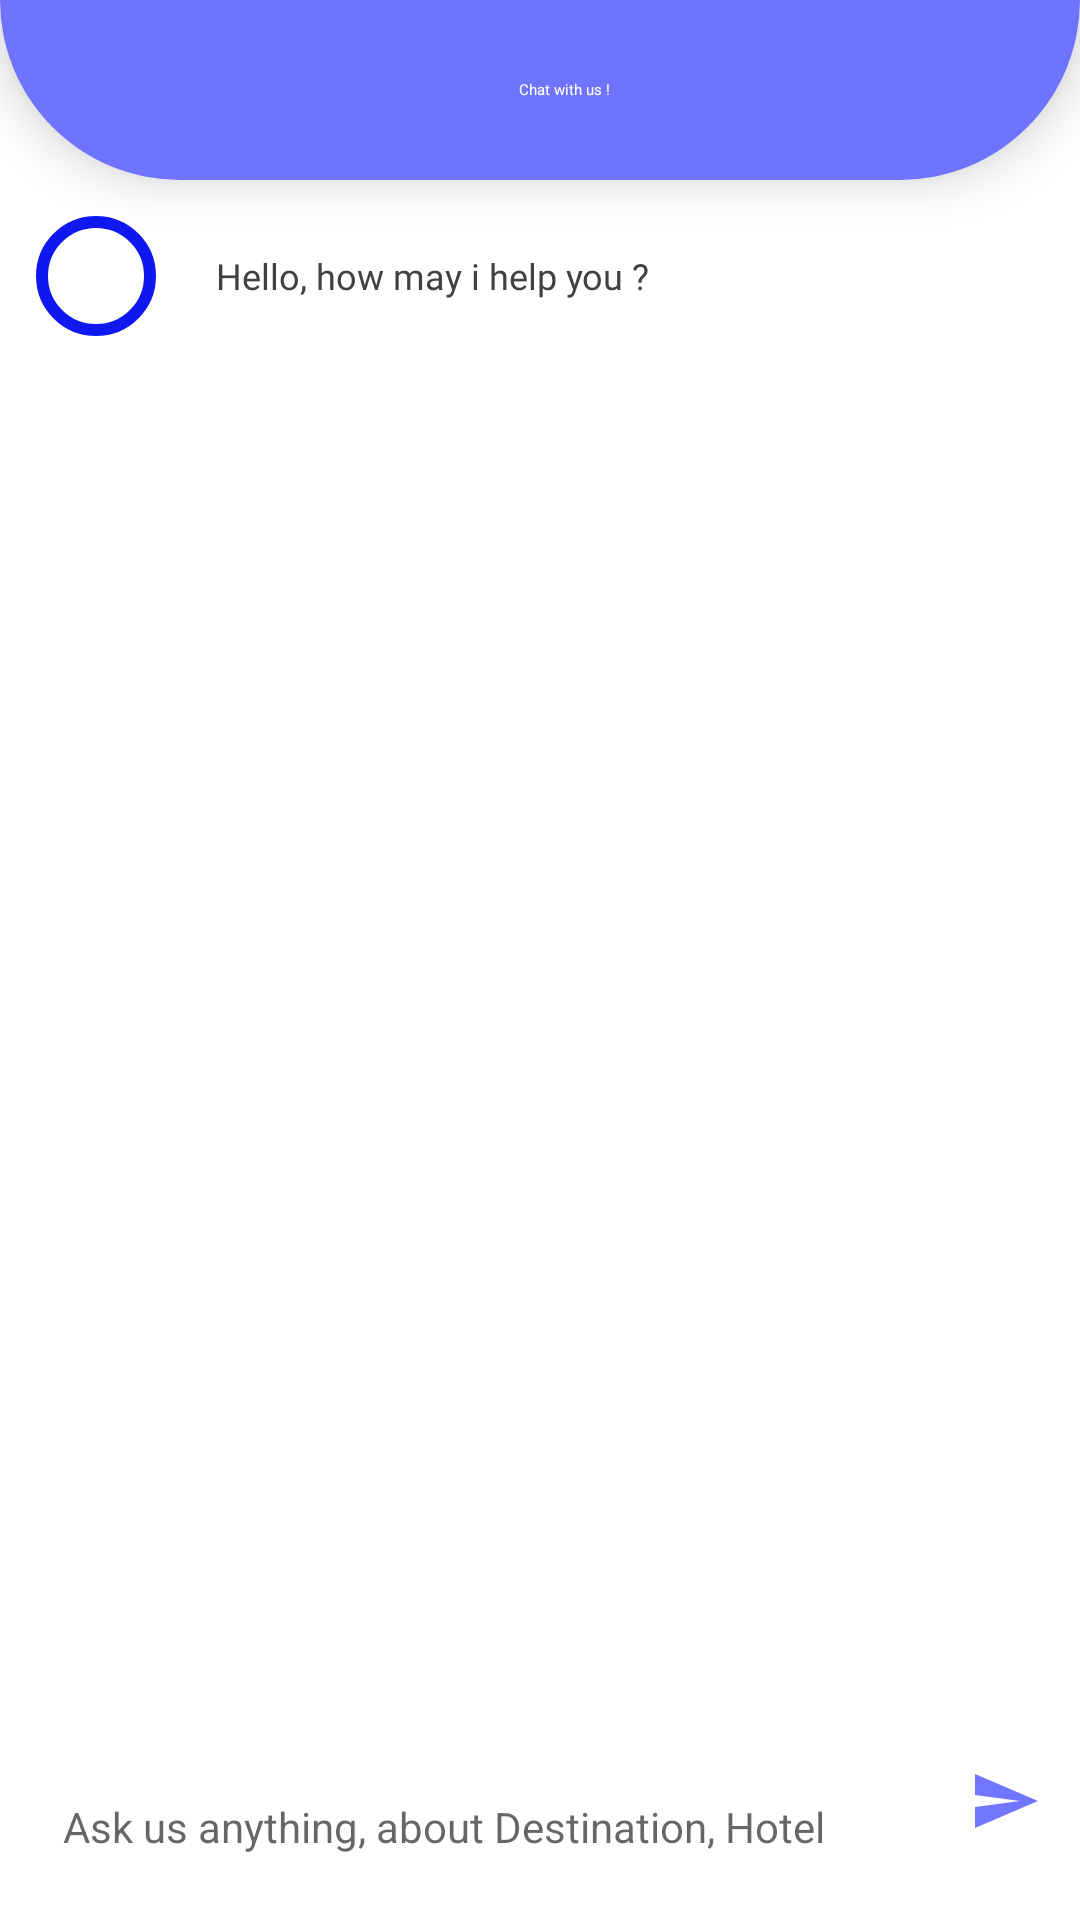

Named icons in this screenshot (1080 × 1920) and their centers, (x,y):
send: (1006,1801)
